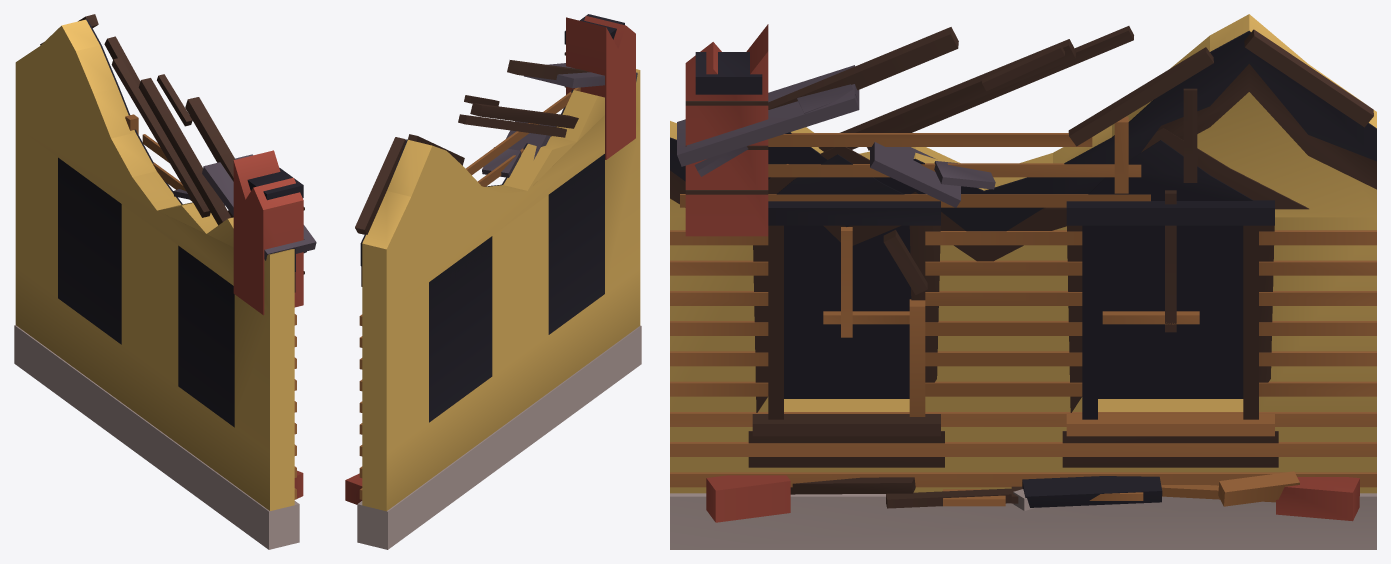
The model's file is decay.burned-facade.house.glb.
3 views of the same model, side by side, from view 1: azimuth 30°, elevation 25°; view 2: azimuth 150°, elevation 25°; view 3: azimuth 270°, elevation 25° (orthographic). The views are drawn at different scales.
Parts seen in each view (by area): view 1: body, roof; view 2: body, roof; view 3: body, roof.
Part boxes in pixels (x1,y1,x2,y2): body: [14, 19, 304, 549]; roof: [40, 14, 316, 260]; body: [345, 14, 641, 549]; roof: [355, 60, 637, 234]; body: [670, 14, 1376, 549]; roof: [677, 26, 1373, 207].
Bounding box in the file's own units: 0.4444 × 2.91 × 3.6.
